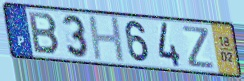3: (60, 13, 91, 60)
4: (158, 21, 183, 69)
6: (124, 20, 151, 64)
B: (26, 10, 62, 57)
H: (87, 15, 128, 63)
Z: (180, 24, 216, 71)
